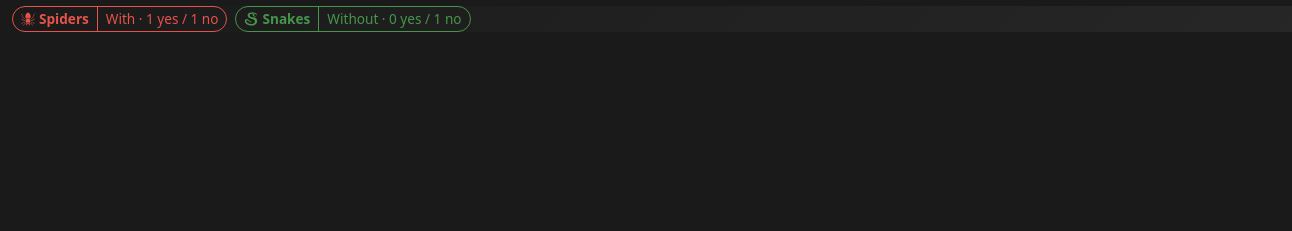
MovieWarnings › efface le film précédent dès que le film change
Click the button "With · 1 yes / 1 no" at (162, 19), box [97,7,226,31]
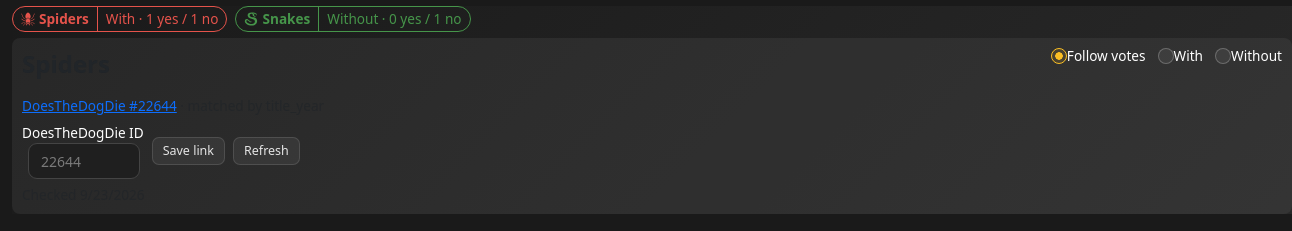
Check: the button "Save link" is shown, box [152,137,225,165]
